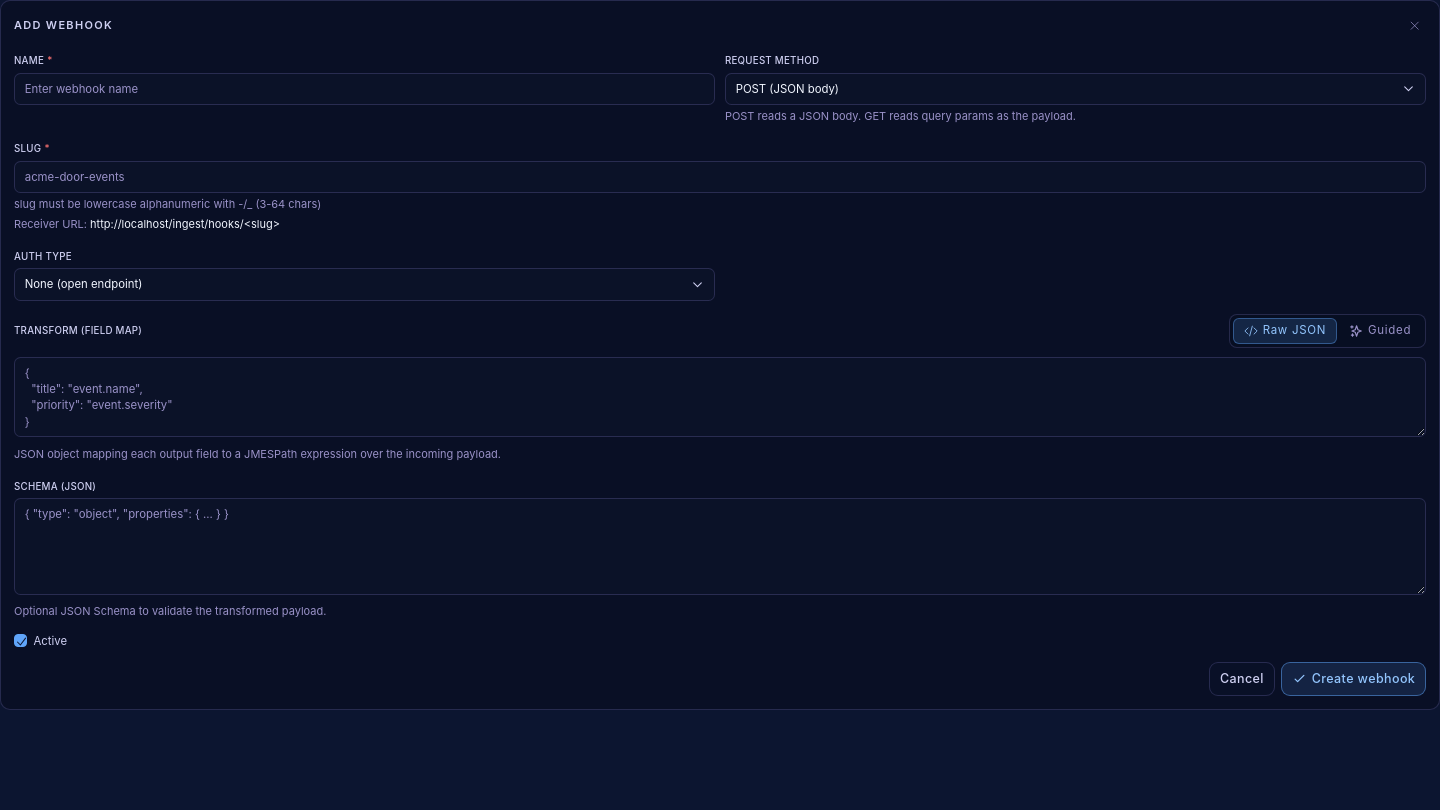
it: the slug rule, which is the backend's regex verbatim › clears the complaint as soon as the operator edits the slug
In the field with placeholder "Enter webhook name": (365, 89) [14,72,715,105], type "Acme"
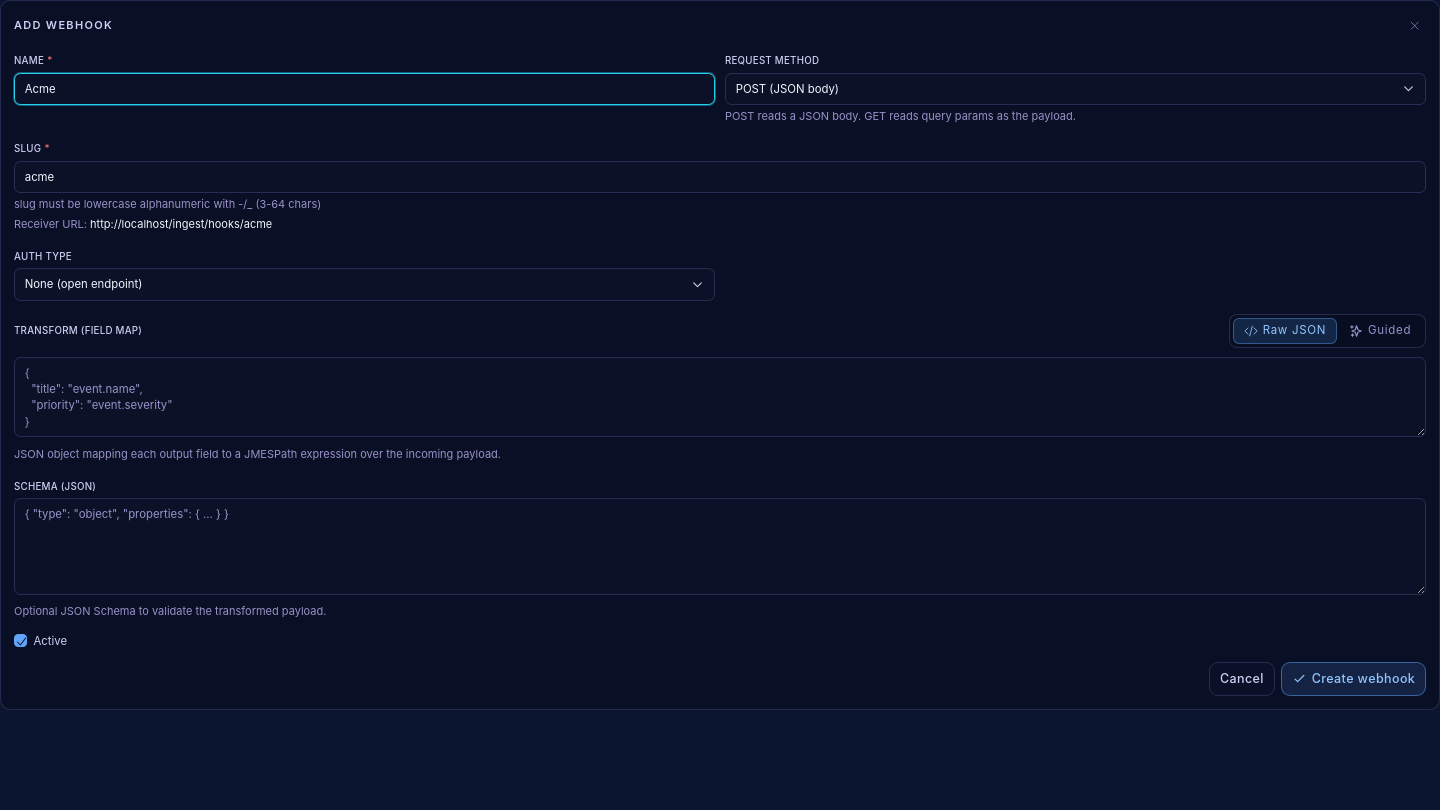
Clear the field with placeholder "acme-door-events": (720, 177) [14,160,1426,193]
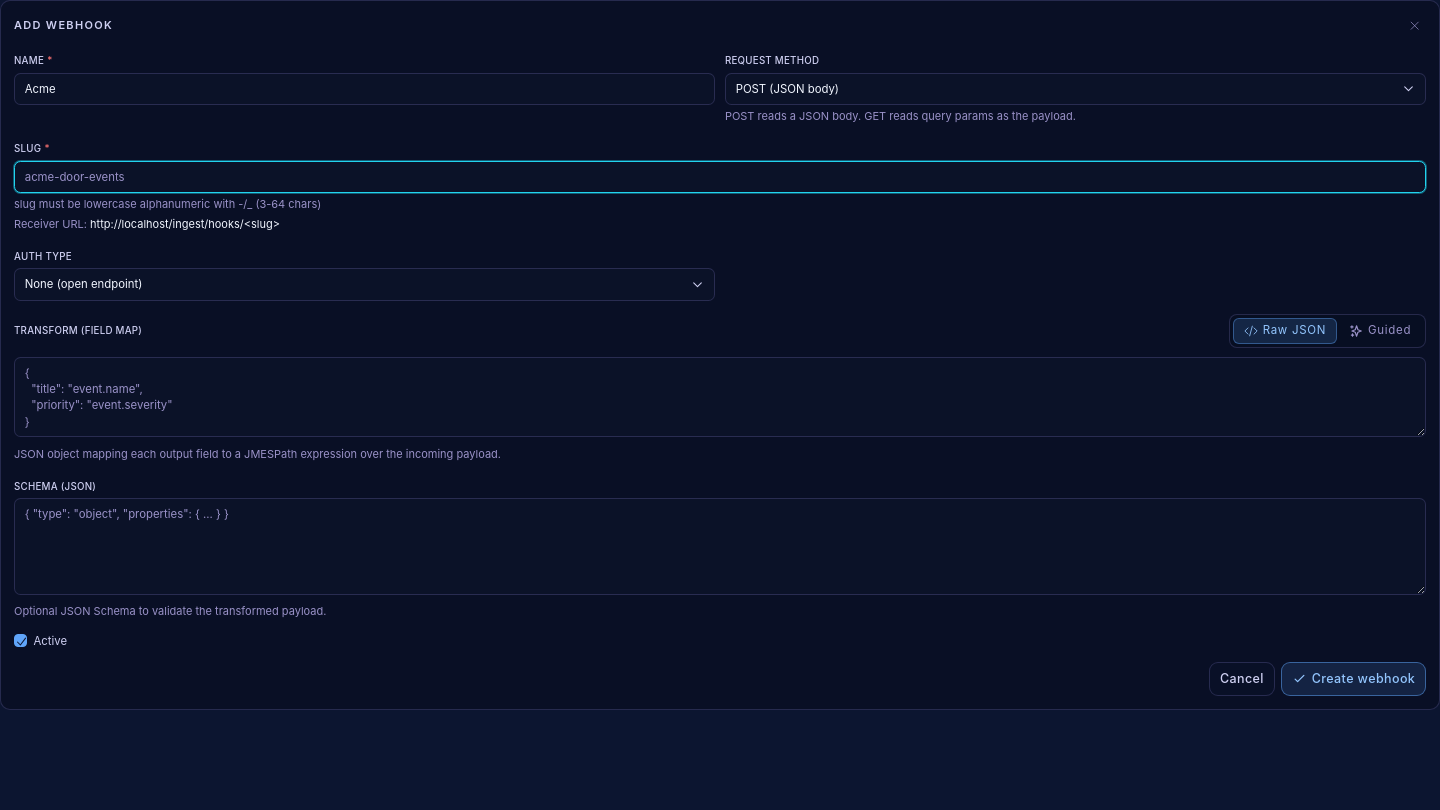
Click the button "Create webhook": (1354, 679) [1281,662,1426,696]
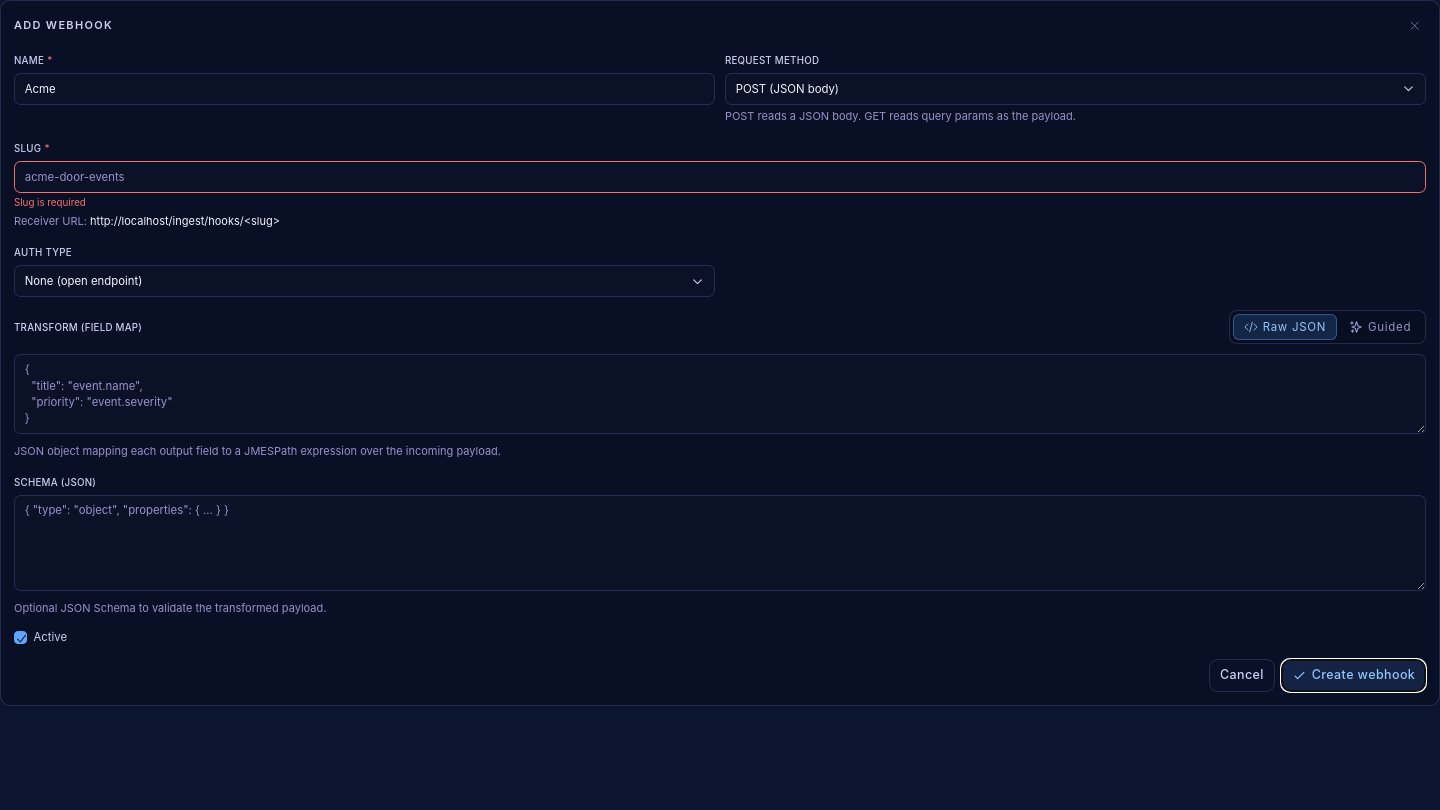
Expected: the text "Slug is required" is shown, [14,197,86,208]
In the field with placeholder "acme-door-events": (720, 177) [14,160,1426,193], type "a"
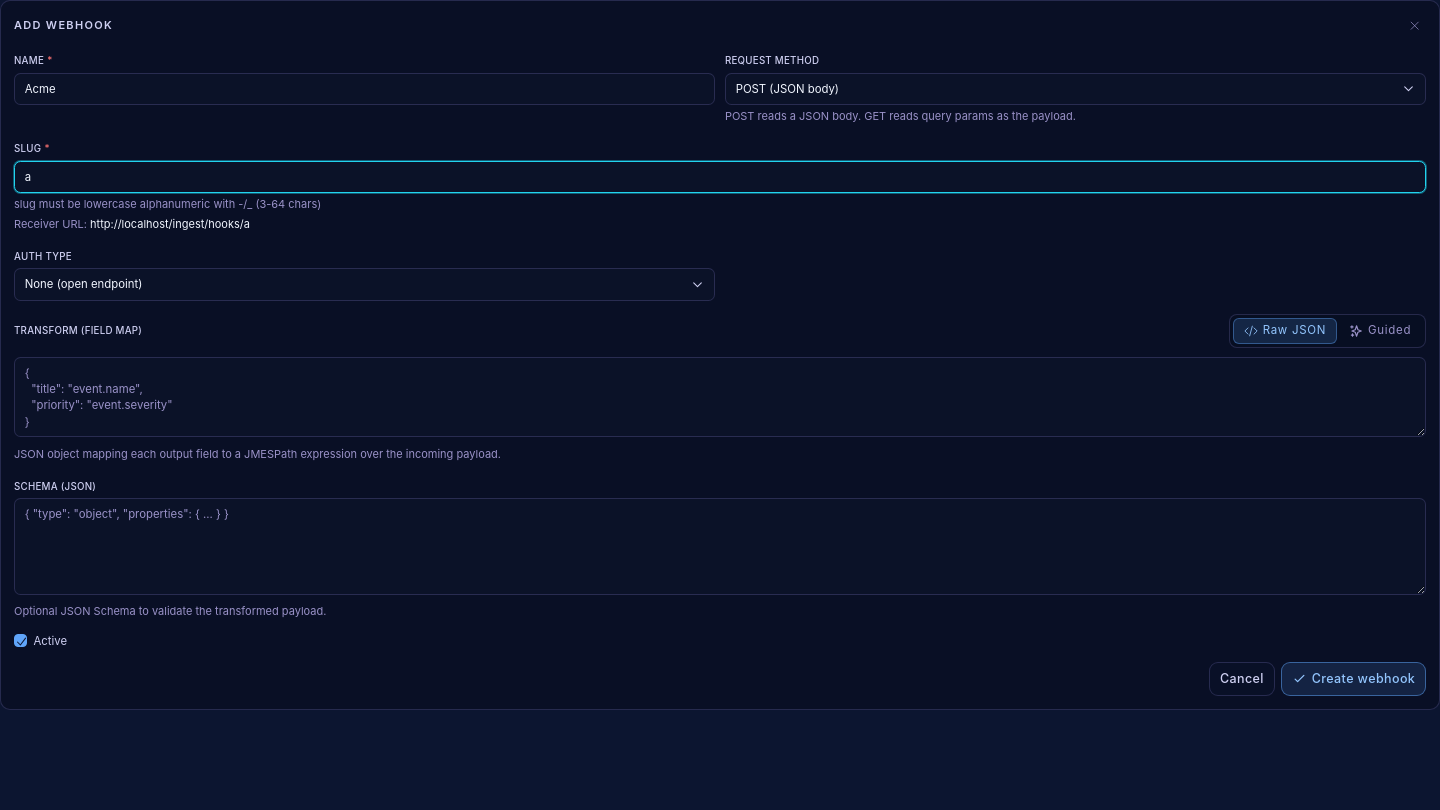
Expected: the text "Slug is required" is gone
